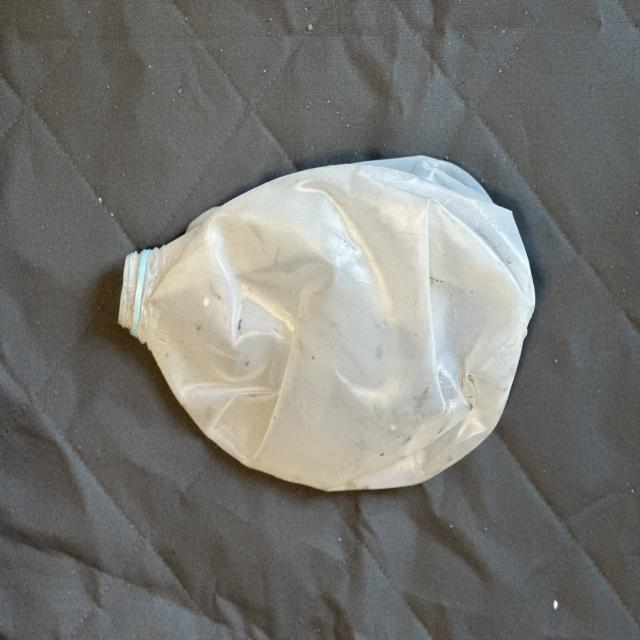milk-jug: (113, 153, 538, 495)
